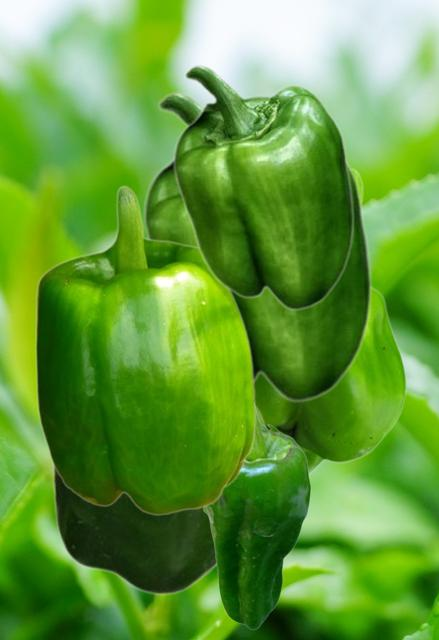bell_pepper: (34, 185, 255, 515), (142, 91, 372, 402), (256, 167, 406, 474), (172, 64, 354, 310), (51, 404, 267, 595), (202, 408, 310, 629)
